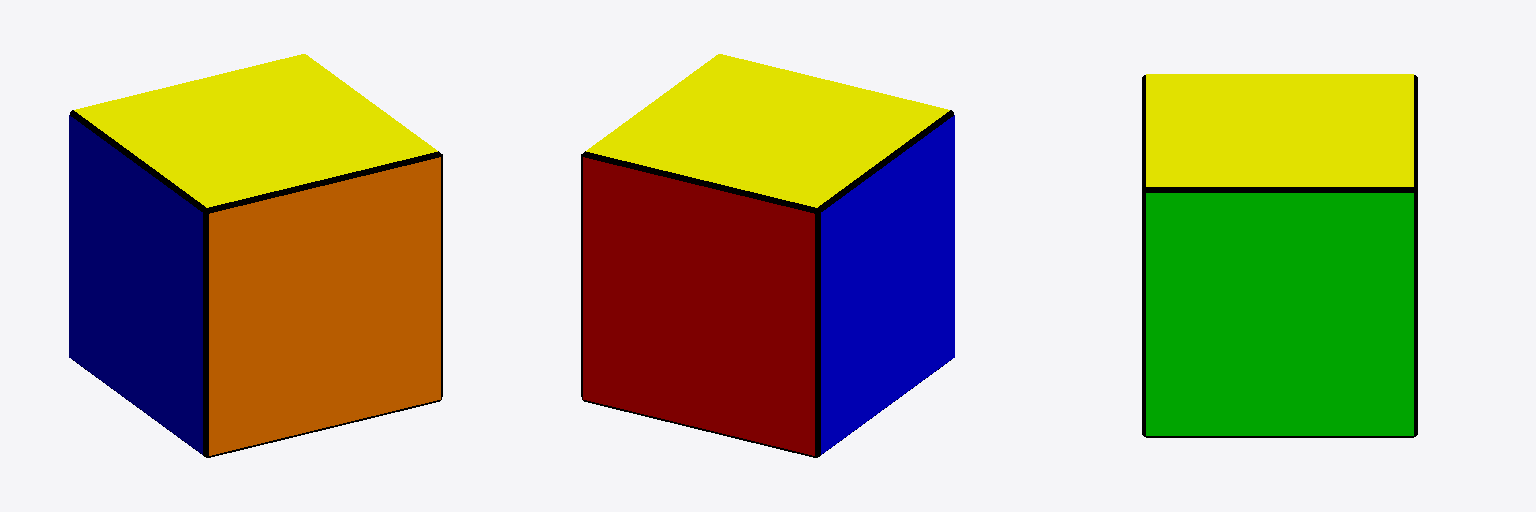
The model's file is rubik.obj.
The picture shows the model from 3 angles: view 1: azimuth 30°, elevation 25°; view 2: azimuth 150°, elevation 25°; view 3: azimuth 270°, elevation 25°; orthographic projection.
Visible parts, largest first — view 1: KOrange, KBlue, KYellow, KBody; view 2: KRed, KBlue, KYellow, KBody; view 3: KGreen, KYellow, KBody.
Boxes of the visible parts, x1=… form: KOrange: x1=209, y1=157, x2=440, y2=455; KBlue: x1=69, y1=115, x2=202, y2=454; KYellow: x1=74, y1=54, x2=437, y2=207; KBody: x1=70, y1=110, x2=442, y2=457; KRed: x1=583, y1=157, x2=814, y2=455; KBlue: x1=821, y1=115, x2=954, y2=454; KYellow: x1=586, y1=54, x2=949, y2=207; KBody: x1=581, y1=110, x2=953, y2=457; KGreen: x1=1146, y1=193, x2=1413, y2=435; KYellow: x1=1146, y1=74, x2=1413, y2=186; KBody: x1=1142, y1=75, x2=1417, y2=437.
Bounding box in the file's own units: 18.6 × 18.6 × 18.6.